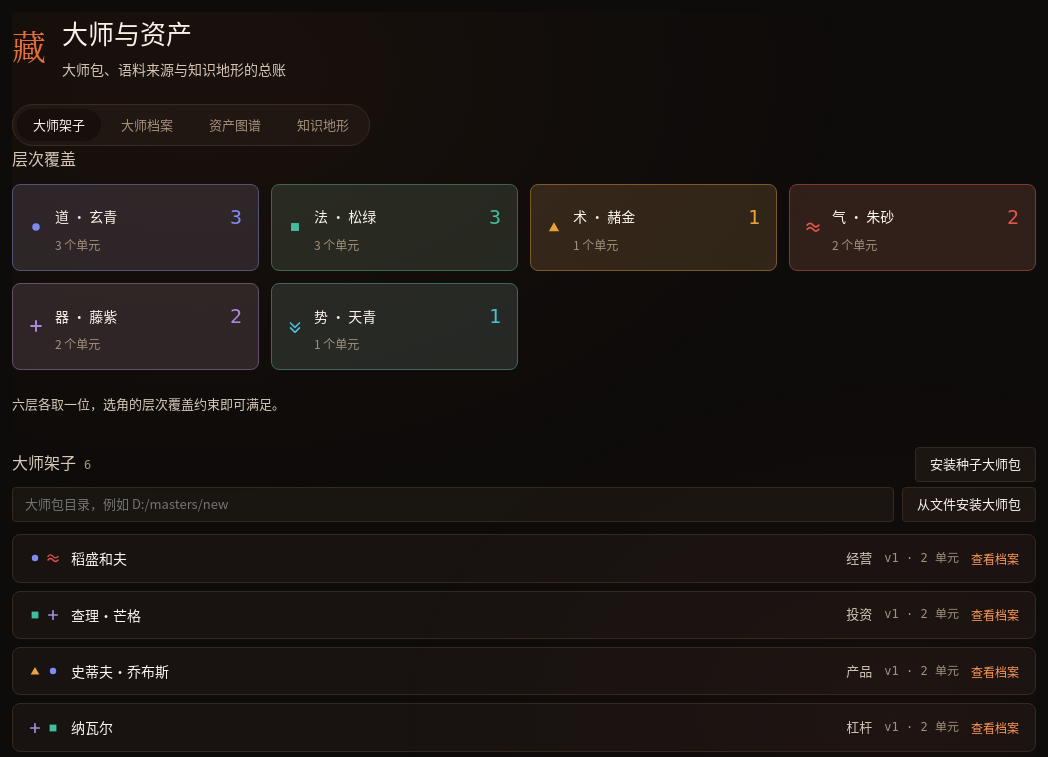
藏境界 · 知识地形 › 默认展示大师架子，可切换到知识地形
The width and height of the screenshot is (1048, 757).
Expected: the heading "层次覆盖" is shown, [12,146,76,170]
Step 1. Click the tab "知识地形" → coordinates (323, 125), box [281,109,365,141]
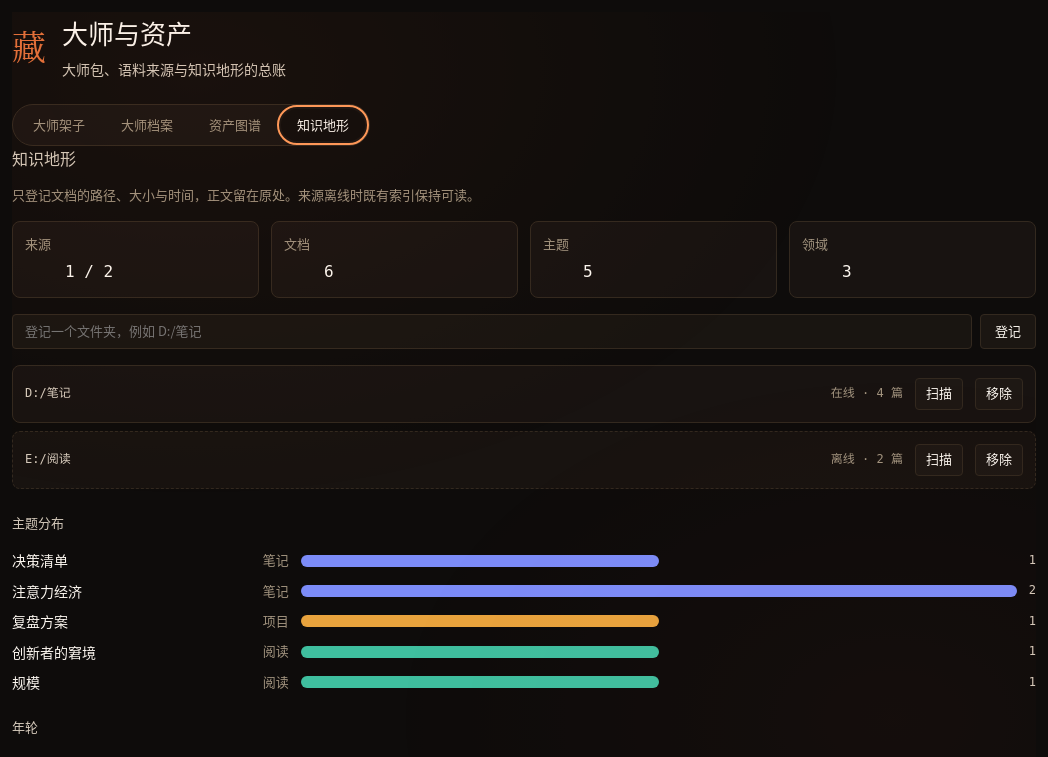
Result: the heading "主题分布" is shown at [12,513,64,532]
Result: the heading "年轮" is shown at [12,717,38,736]
